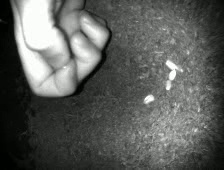corn: (162, 57, 180, 72), (141, 92, 156, 106), (166, 67, 179, 81), (163, 77, 174, 93), (174, 62, 185, 75)
